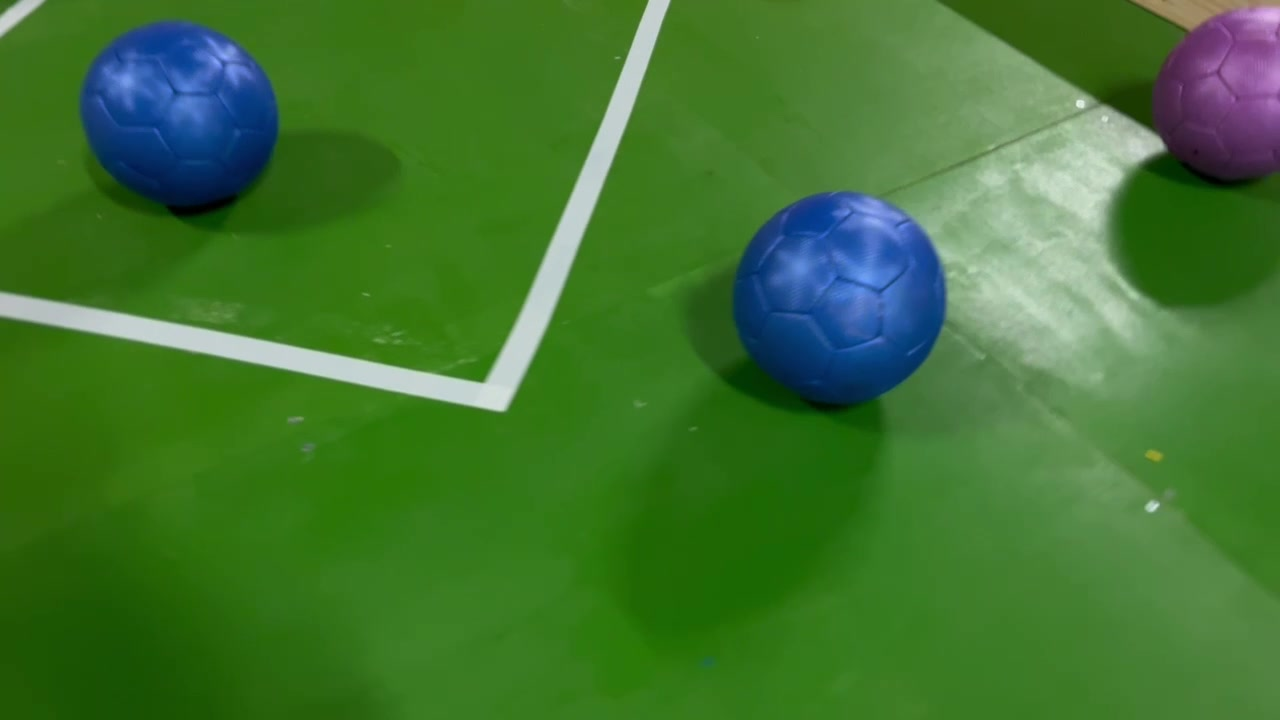blue: (726, 185, 954, 409), (77, 18, 290, 218)
